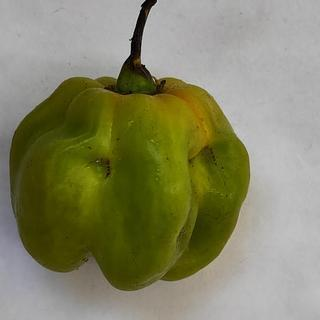Defect: (82, 151, 119, 187), (192, 139, 226, 175)
